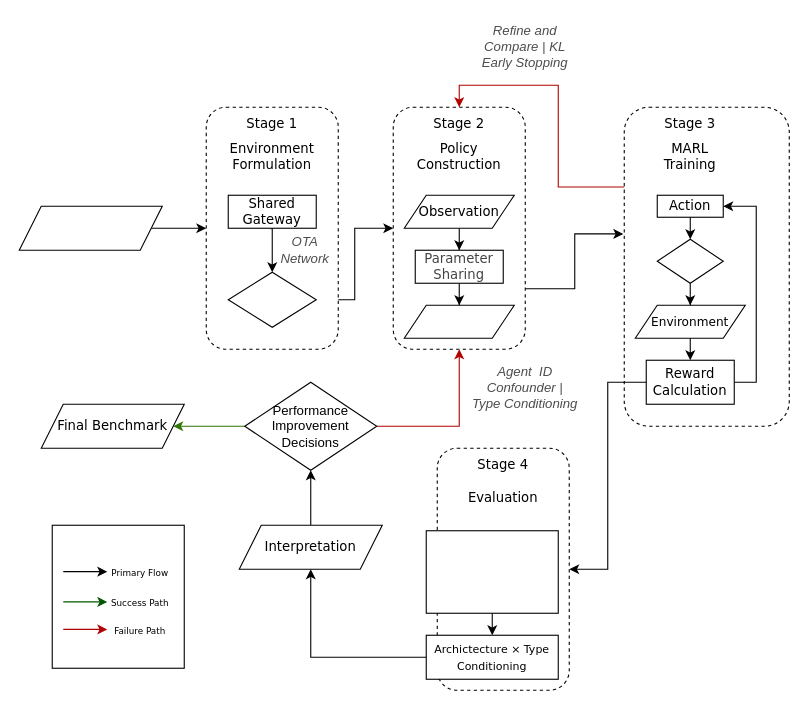
Image size: 809x710. Some labels were removed from this diagram. Here are the shapes that lost their labels. From the top down, the centre of each, then its label:
At [90,227]: "Environment Design".
At [689,260]: "Shield".
At [271,299]: "ECUs".
At [458,321]: "Architecture".
At [491,571]: "Return Shield Rate Payload Cost Learning Dynamics".
